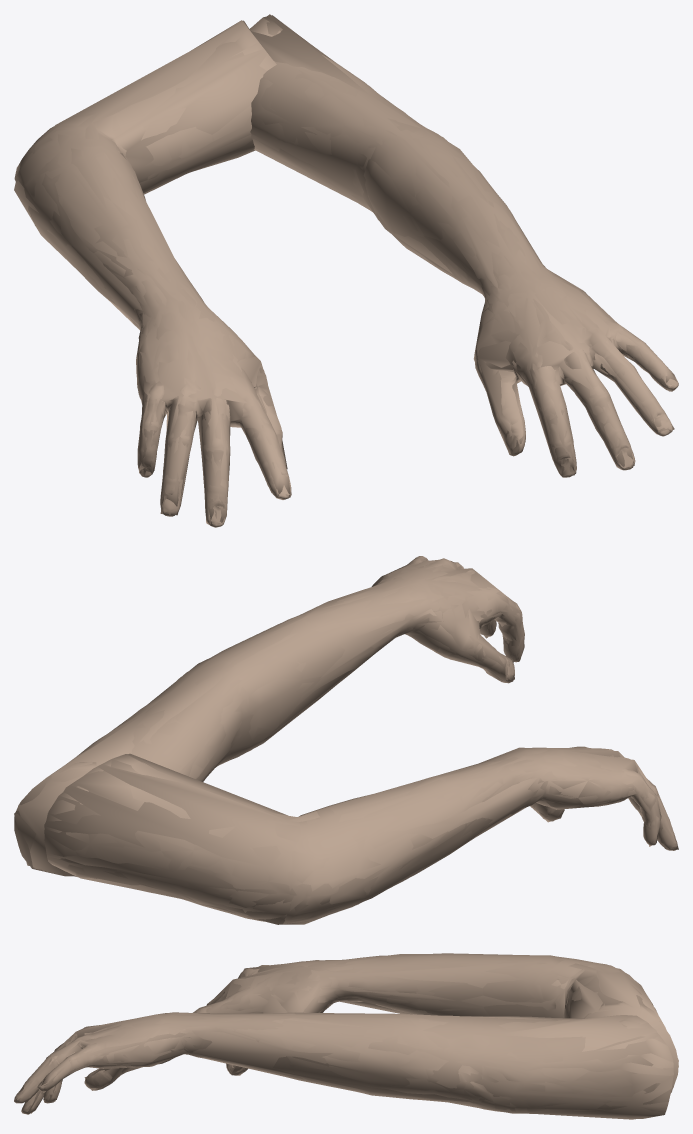
File: hand.fbx
3 views of the same model, one above another, from view 1: azimuth 30°, elevation 25°; view 2: azimuth 150°, elevation 25°; view 3: azimuth 270°, elevation 25° (orthographic). The views are drawn at different scales.
Parts seen in each view (by area): view 1: Hand 1.002, Hand 2.001, Hand 1, Hand 2.002, Hand 1.001, Hand 2; view 2: Hand 1, Hand 1.002, Hand 1.001, Hand 2.001, Hand 2, Hand 2.002; view 3: Hand 2, Hand 2.001, Hand 2.002, Hand 1.001, Hand 1, Hand 1.002.
Part boxes in pixels (x1,y1,x2,y2): Hand 1.002: [14, 20, 290, 525]; Hand 2.001: [249, 15, 678, 477]; Hand 1: [17, 20, 291, 527]; Hand 2.002: [250, 14, 678, 477]; Hand 1.001: [14, 20, 291, 527]; Hand 2: [250, 17, 678, 477]; Hand 1: [44, 746, 676, 924]; Hand 1.002: [44, 747, 678, 924]; Hand 1.001: [44, 746, 677, 923]; Hand 2.001: [14, 556, 524, 876]; Hand 2: [14, 556, 524, 874]; Hand 2.002: [14, 558, 524, 876]; Hand 2: [14, 1012, 673, 1118]; Hand 2.001: [14, 1012, 673, 1118]; Hand 2.002: [14, 1013, 673, 1119]; Hand 1.001: [197, 953, 678, 1092]; Hand 1: [195, 953, 678, 1093]; Hand 1.002: [193, 954, 678, 1087].
Size of the model in its own units: 3.43 by 1.61 by 5.94.
